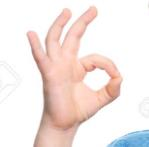left: (20, 4, 124, 125)
